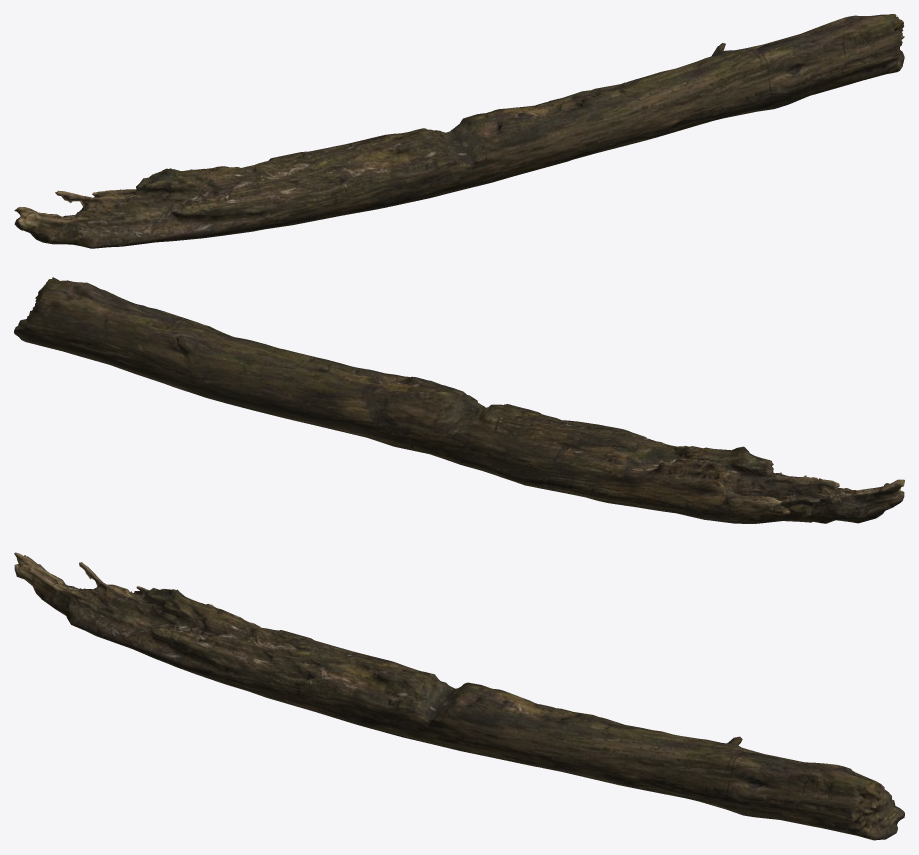
Rendered from deadtrunk.glb.
3 renders of one model, top to bottom at view 1: azimuth 30°, elevation 25°; view 2: azimuth 150°, elevation 25°; view 3: azimuth 330°, elevation 25°, orthographic.
Visible parts, largest first — view 1: dead_tree_trunk; view 2: dead_tree_trunk; view 3: dead_tree_trunk.
Boxes of the visible parts, left/top/right/bottom form: dead_tree_trunk: left=14, top=14, right=904, bottom=248; dead_tree_trunk: left=14, top=277, right=904, bottom=523; dead_tree_trunk: left=14, top=552, right=904, bottom=840.
Bounding box in the file's own units: 3.05 × 0.2899 × 0.2774.
Materials: 1 (1 with a texture image).
